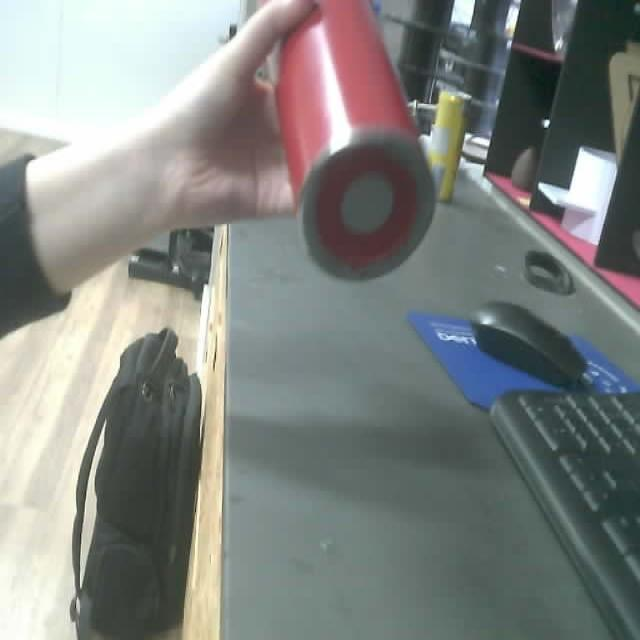water bottle: (272, 0, 438, 284)
